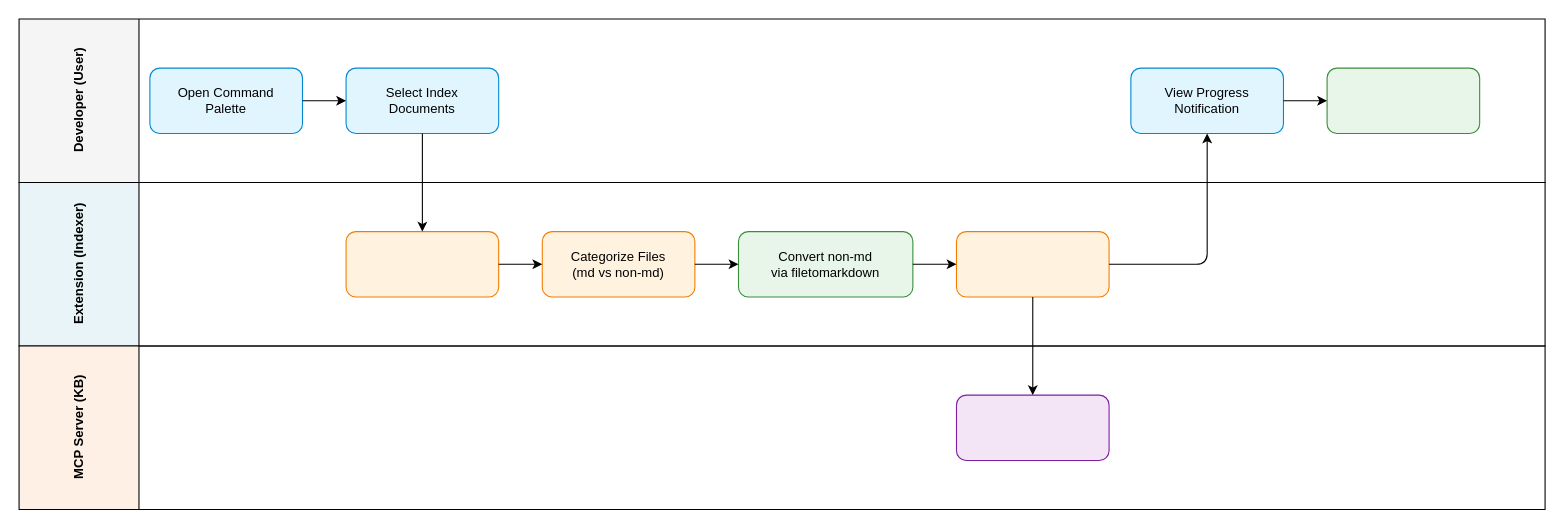
Some shapes in this 1564 by 529 pixel diagram are drawn without their labels. The centre of each missing label's shape, as x and y in pixels:
"Ingest into KB (embed + store)" belongs at (x=1032, y=427).
"Scan documents/ Recursively" belongs at (x=422, y=264).
"See Summary in Output" belongs at (x=1403, y=100).
"Send all markdown to MCP API" belongs at (x=1032, y=264).
